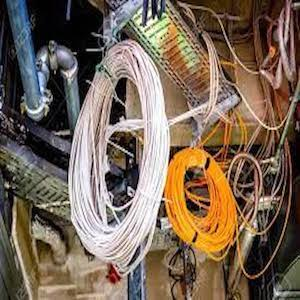combustible: (70, 42, 167, 267), (171, 145, 242, 253), (250, 124, 288, 235), (218, 11, 292, 67)
